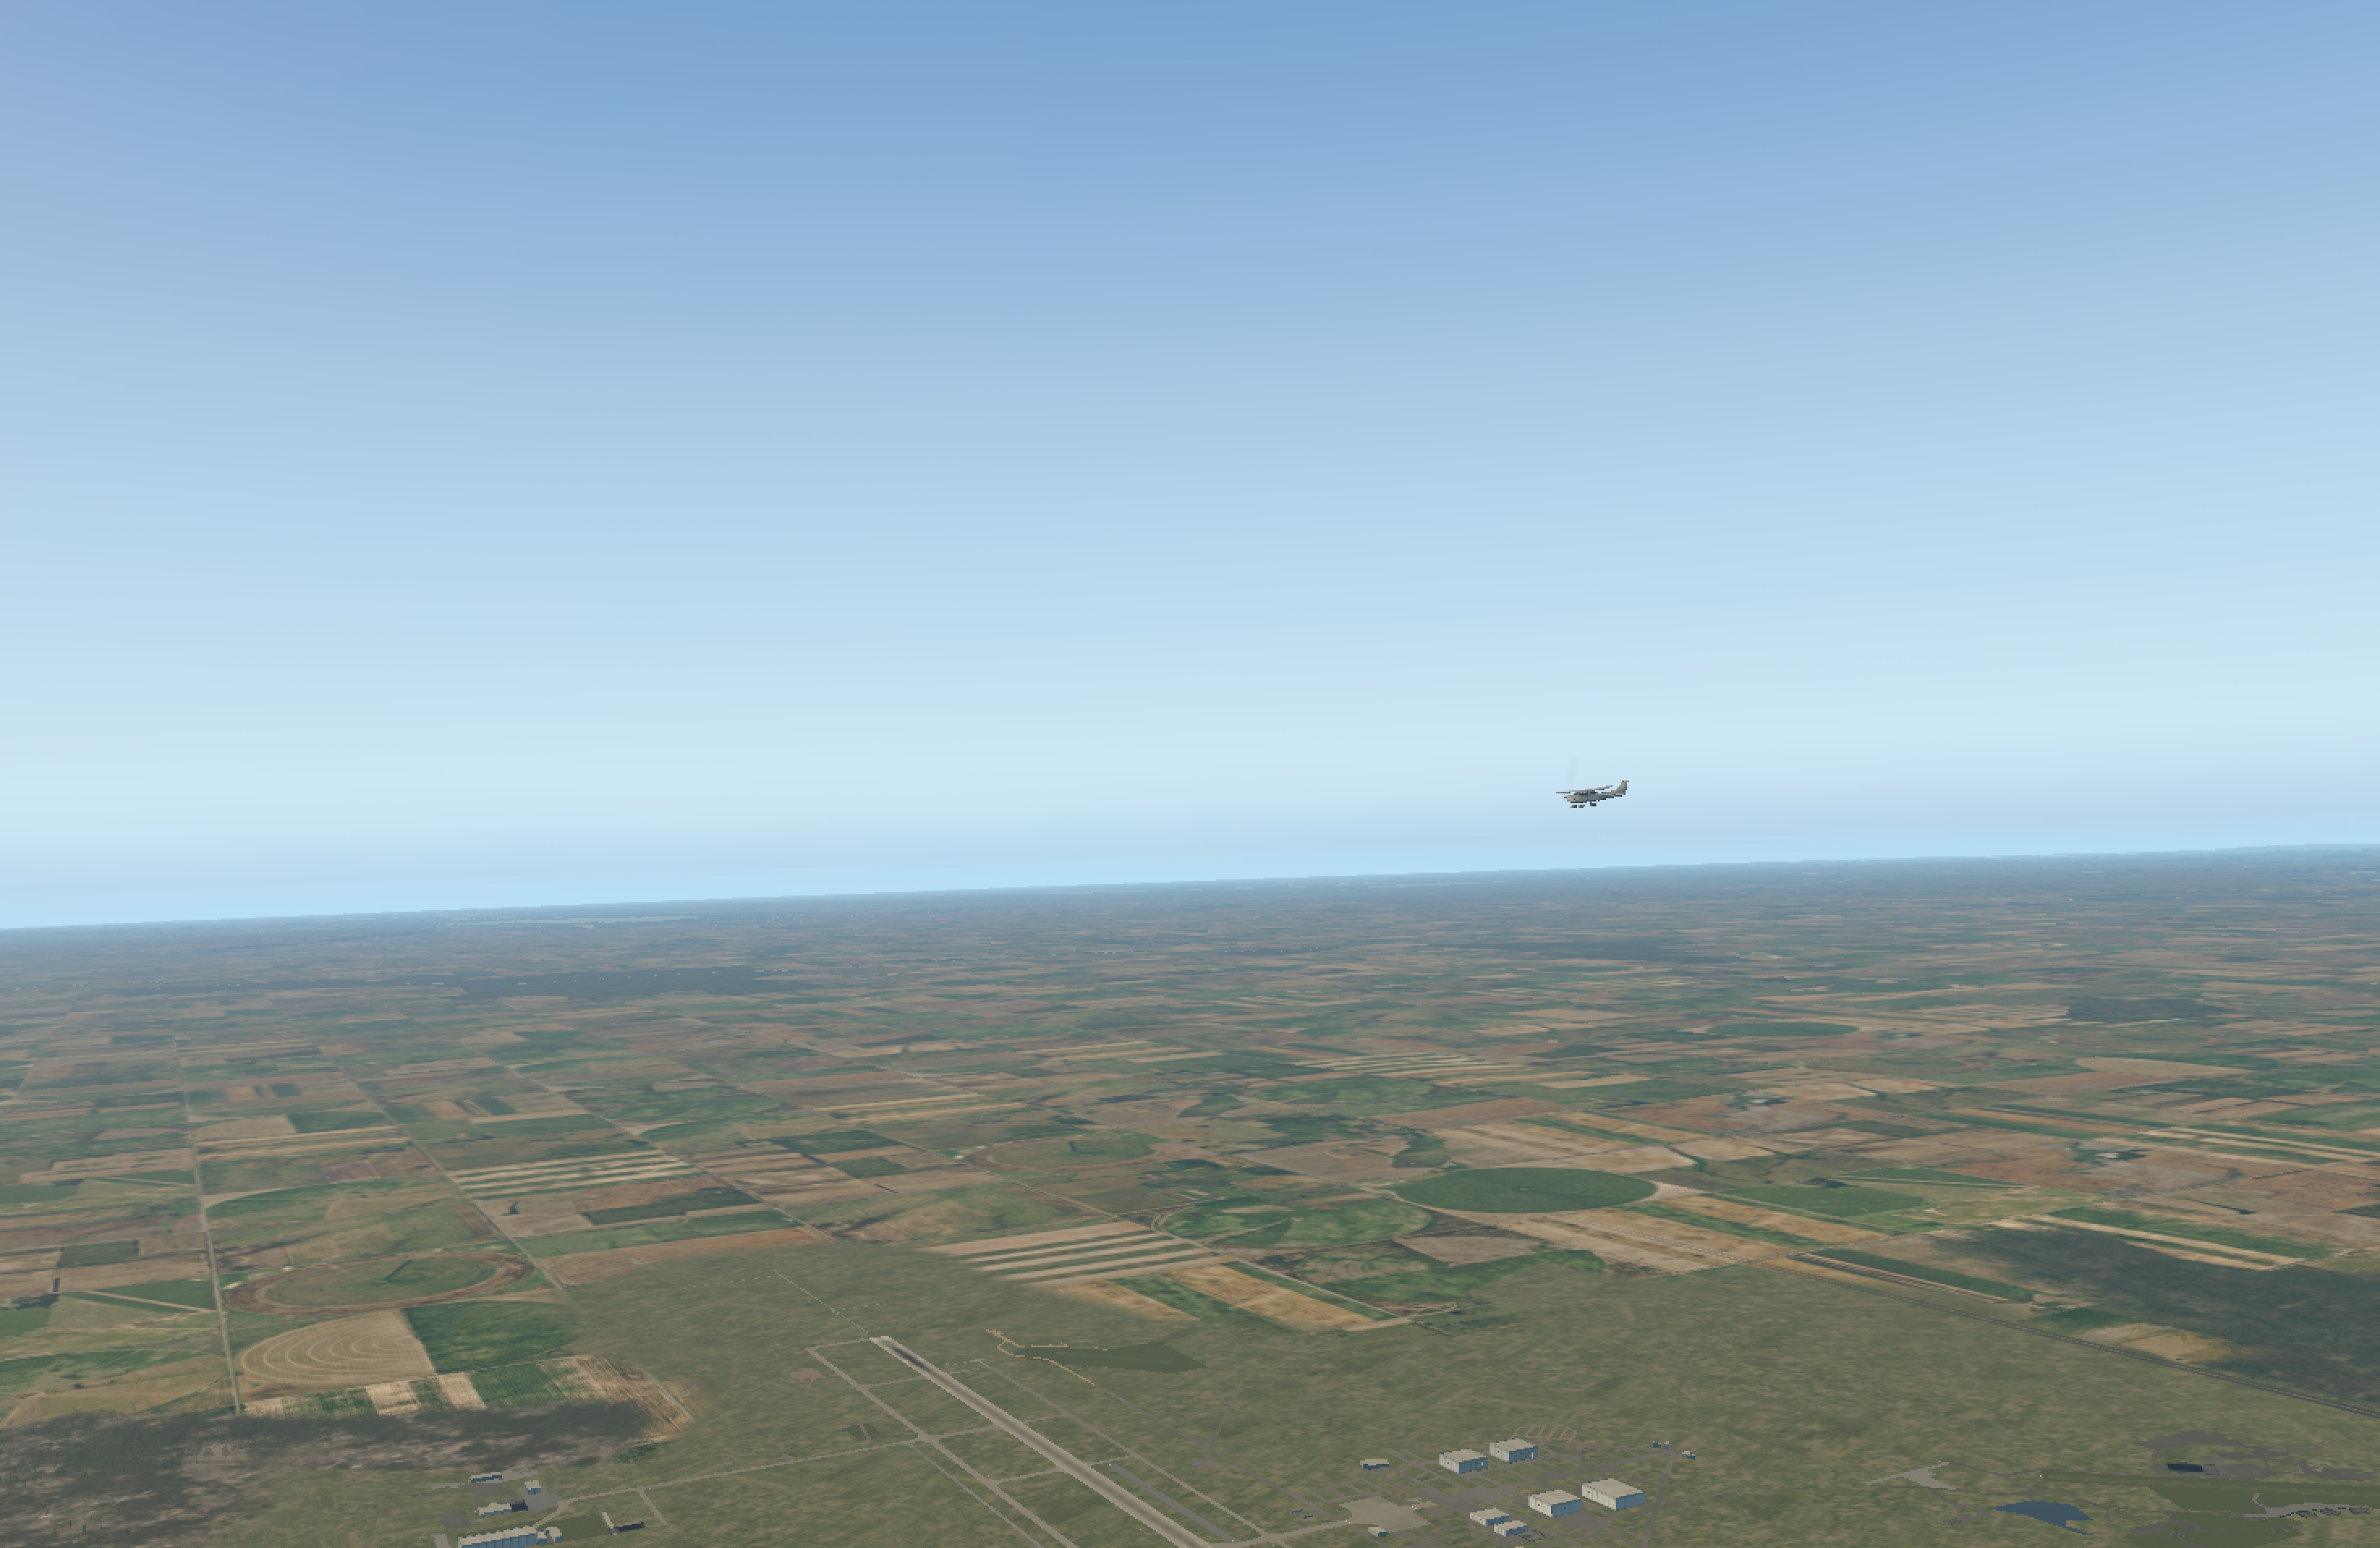aircraft: (1549, 783, 1618, 809)
